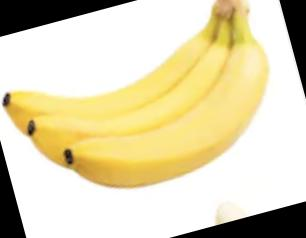Banana Ripe: (0, 9, 298, 199)
